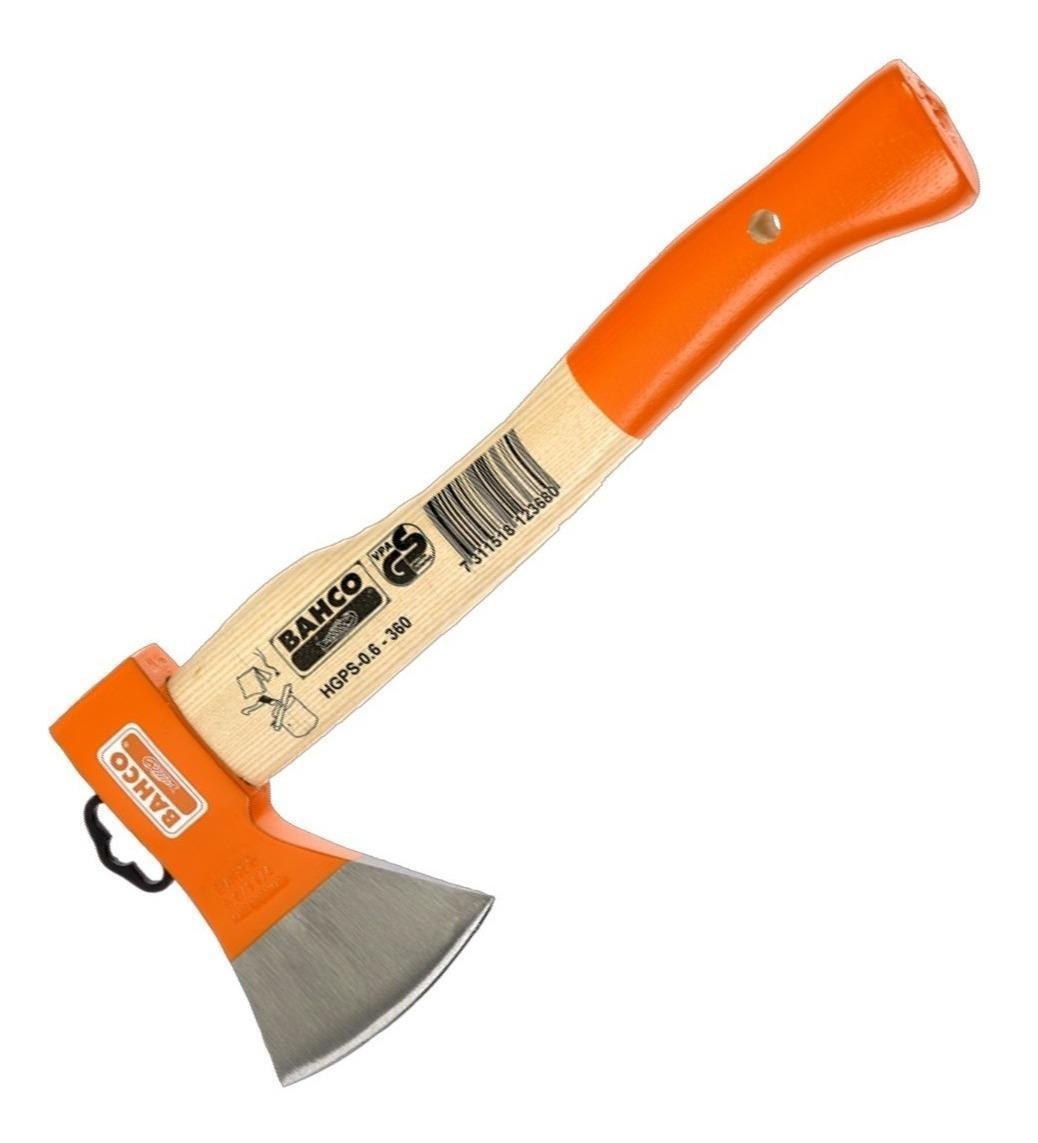machado: (51, 61, 979, 1084)
